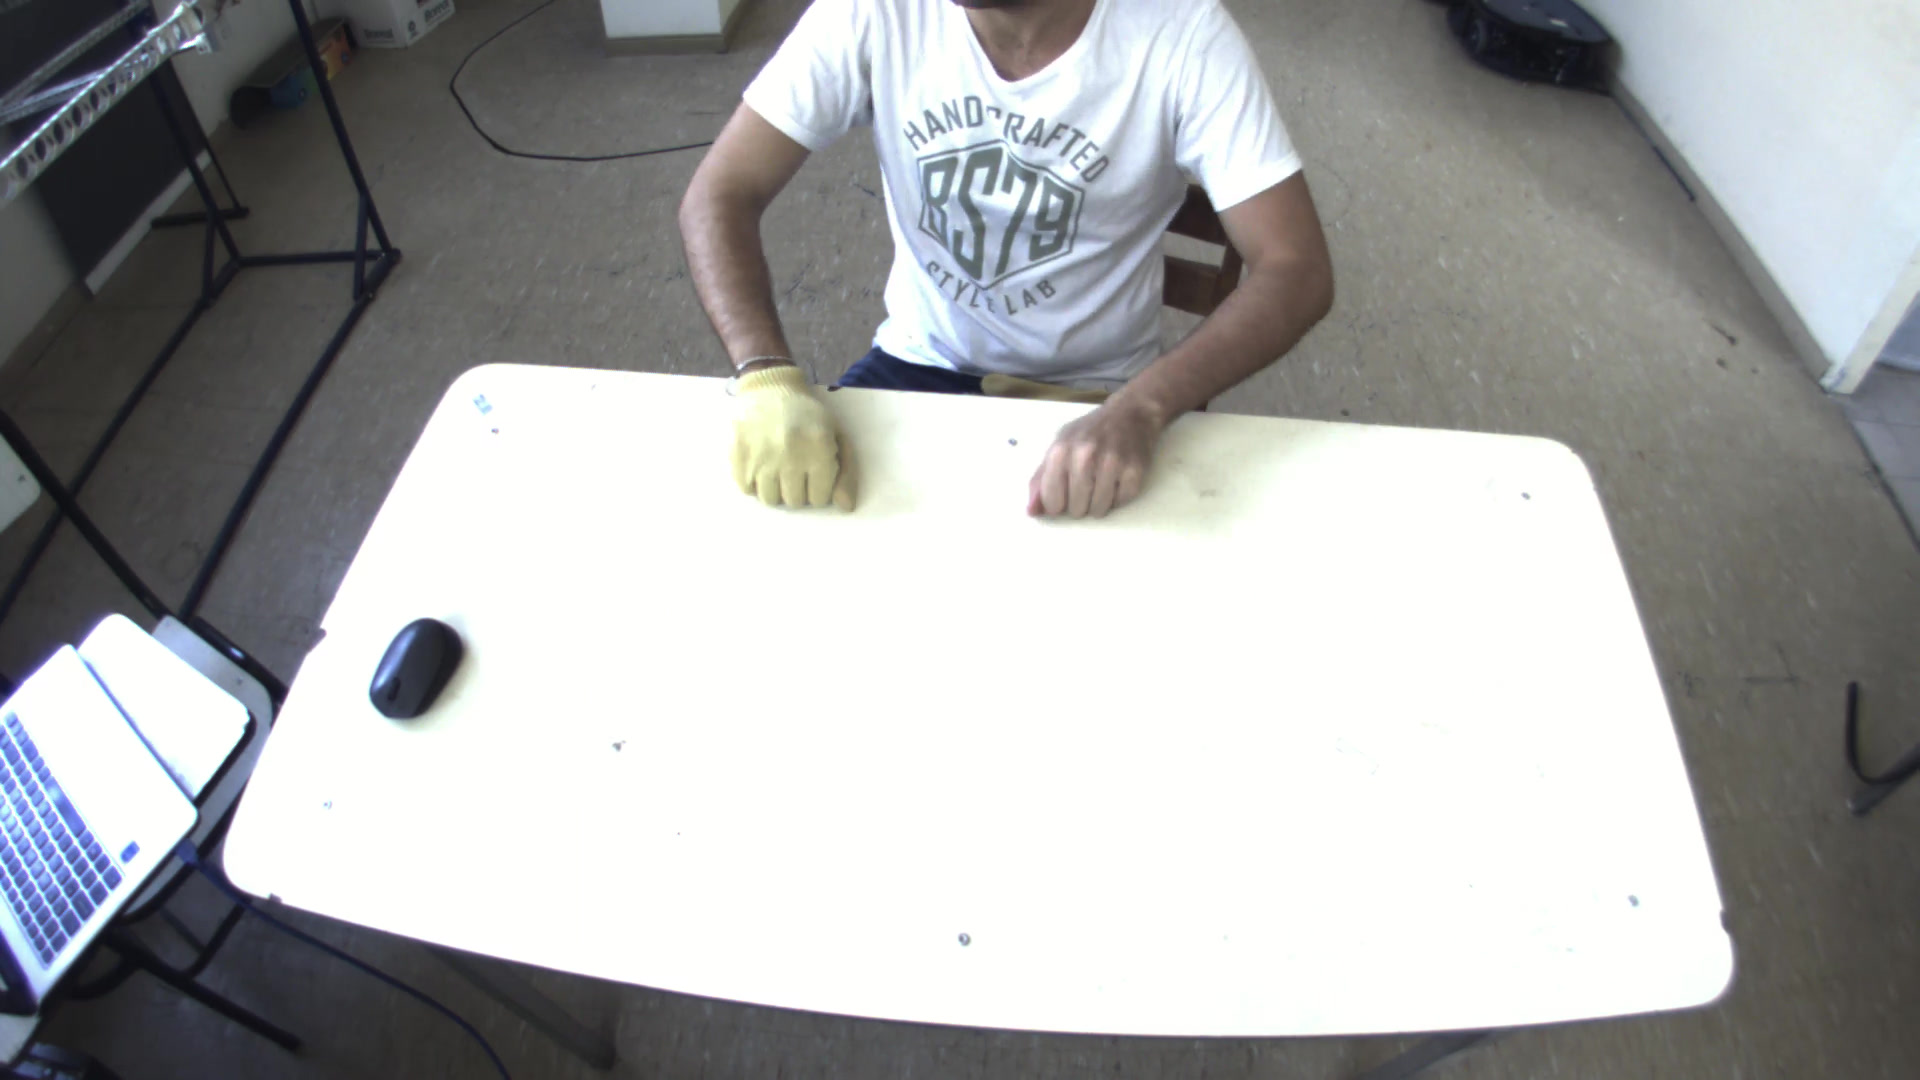hand: (709, 343, 866, 516), (1023, 377, 1170, 516)
